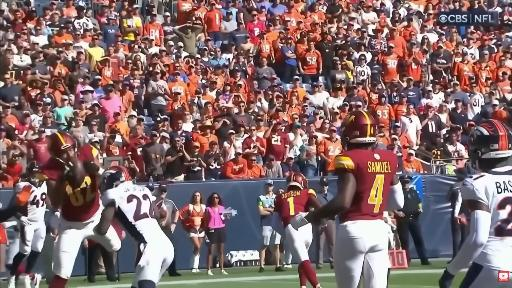Helmet: (469, 120, 511, 164), (341, 111, 376, 143), (100, 166, 131, 192), (48, 132, 75, 159), (287, 173, 307, 189), (27, 162, 41, 173)
Jersey: (461, 167, 511, 270), (335, 149, 397, 222), (102, 182, 165, 243), (61, 175, 100, 222), (62, 174, 100, 222), (274, 189, 315, 227), (15, 182, 46, 222)
Player: (304, 111, 403, 287), (41, 132, 121, 287), (439, 120, 511, 287), (96, 167, 174, 287), (274, 173, 321, 287), (8, 162, 46, 287)
